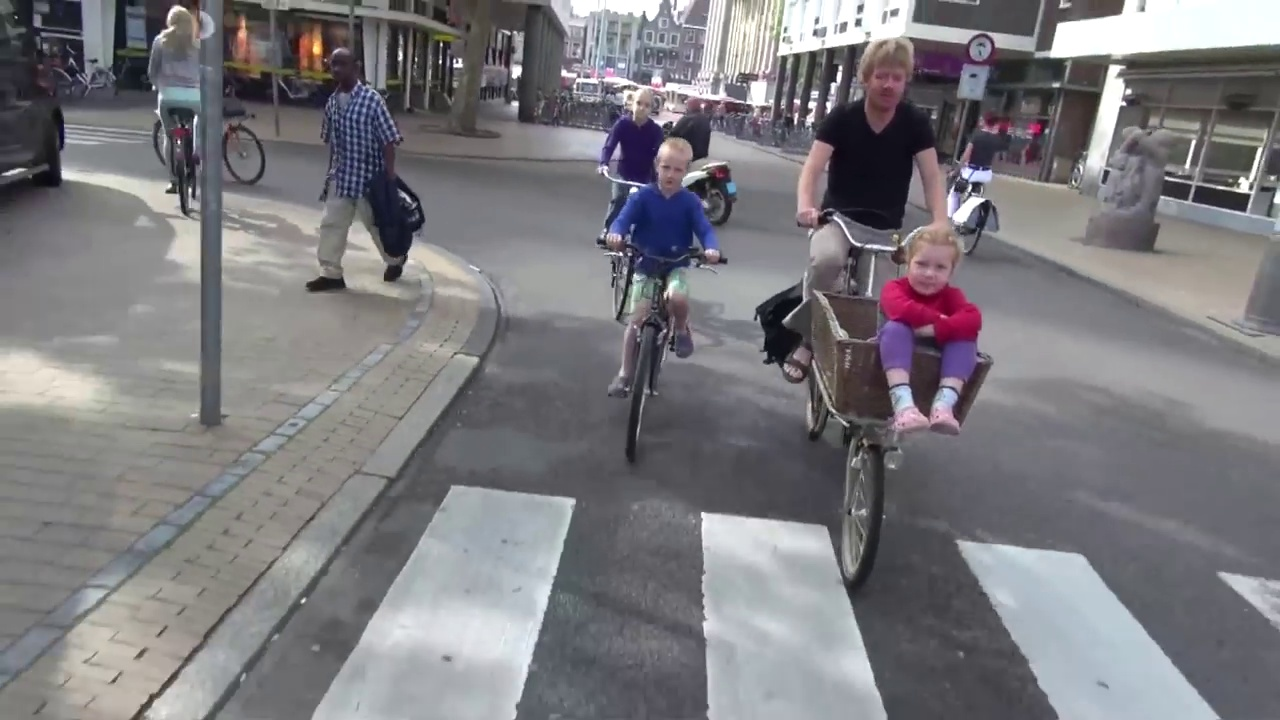cyclist_back: (136, 2, 205, 222)
cyclist_front: (794, 18, 949, 612), (602, 136, 724, 478), (596, 68, 653, 283)
